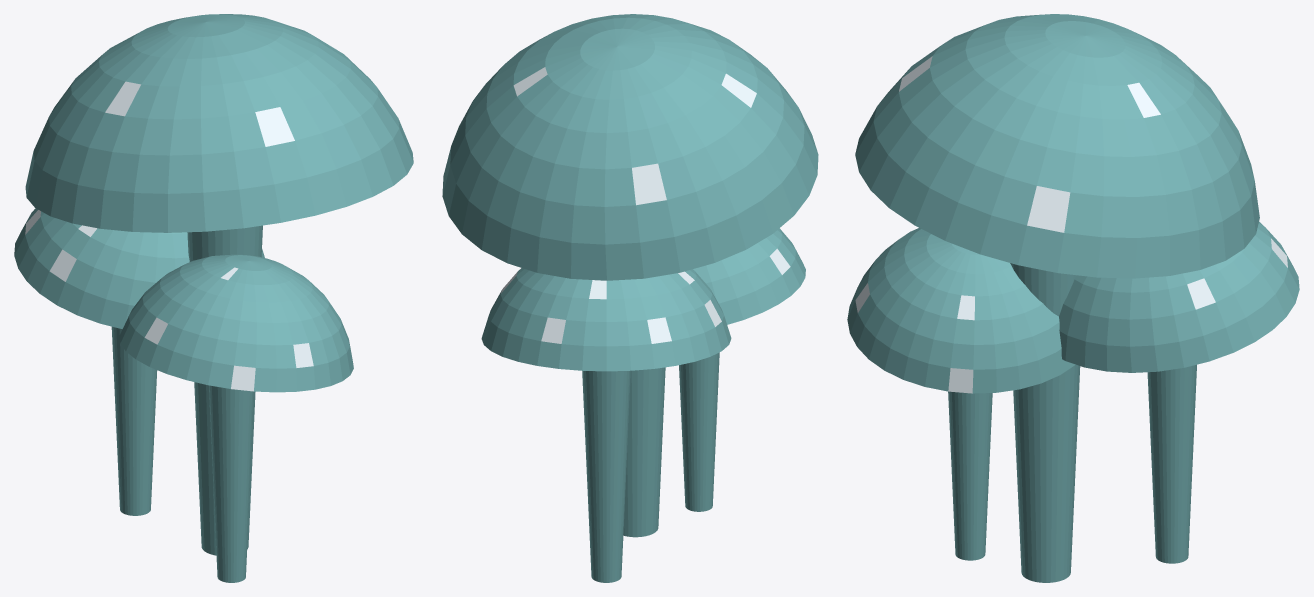
The model's file is mushrooms.fbx.
3 renders of one model, left to right at view 1: azimuth 30°, elevation 25°; view 2: azimuth 150°, elevation 25°; view 3: azimuth 270°, elevation 25°, orthographic. The views are drawn at different scales.
Parts seen in each view (by area): view 1: Sphere.005; view 2: Sphere.005; view 3: Sphere.005.
Boxes of the visible parts, box(x1,y1,x2,y2) form: Sphere.005: box(14, 14, 413, 582); Sphere.005: box(442, 14, 818, 582); Sphere.005: box(847, 14, 1299, 582).
Size of the model in its own units: 196 by 284 by 216.
